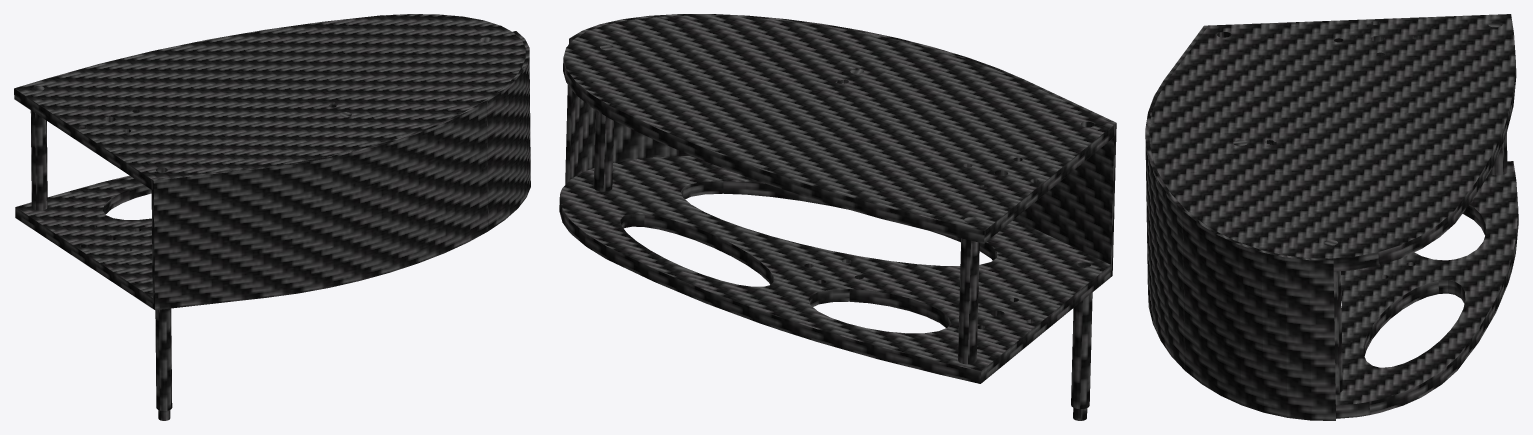
The model's file is left_up_link.dae.
3 renders of one model, left to right at view 1: azimuth 30°, elevation 25°; view 2: azimuth 150°, elevation 25°; view 3: azimuth 270°, elevation 25°, orthographic. The views are drawn at different scales.
Visible parts, largest first — view 1: left_up_link; view 2: left_up_link; view 3: left_up_link.
Boxes of the visible parts, x1,y1,x2,y2 form: left_up_link: (14, 14, 530, 420); left_up_link: (559, 14, 1116, 420); left_up_link: (1145, 14, 1518, 420).
Size of the model in its own units: 0.1241 by 0.0765 by 0.0716.
Materials: 1 (1 with a texture image).
